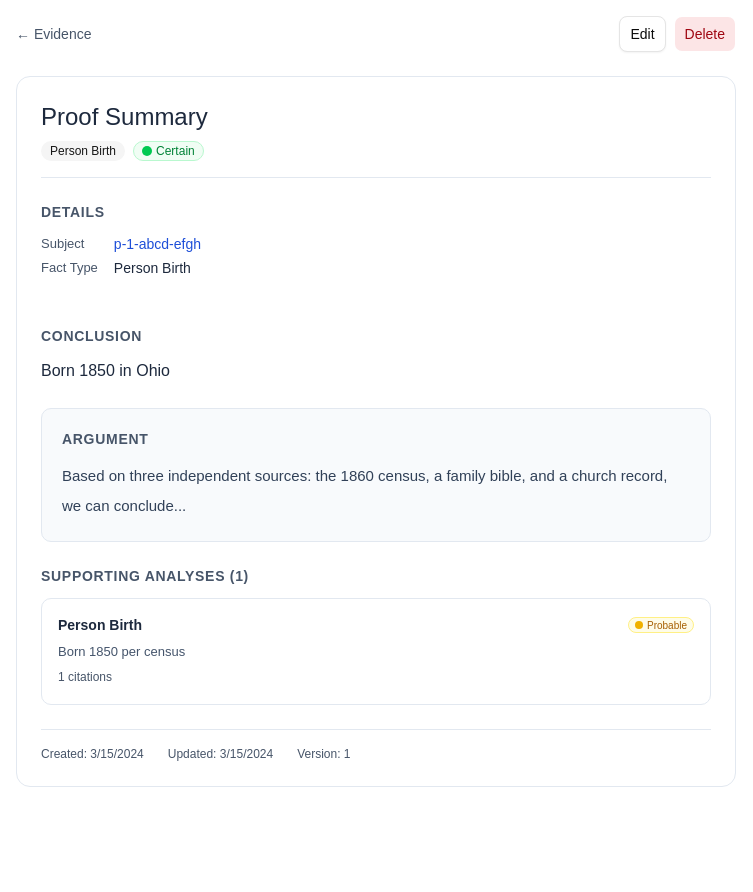
Scenario: Proof Summary Detail Page - save conflict (#939) › compares the edits with the latest version and keeps them in the form
This screenshot has width=753, height=892.
Click the button "Edit": (642, 34) [619,16,666,52]
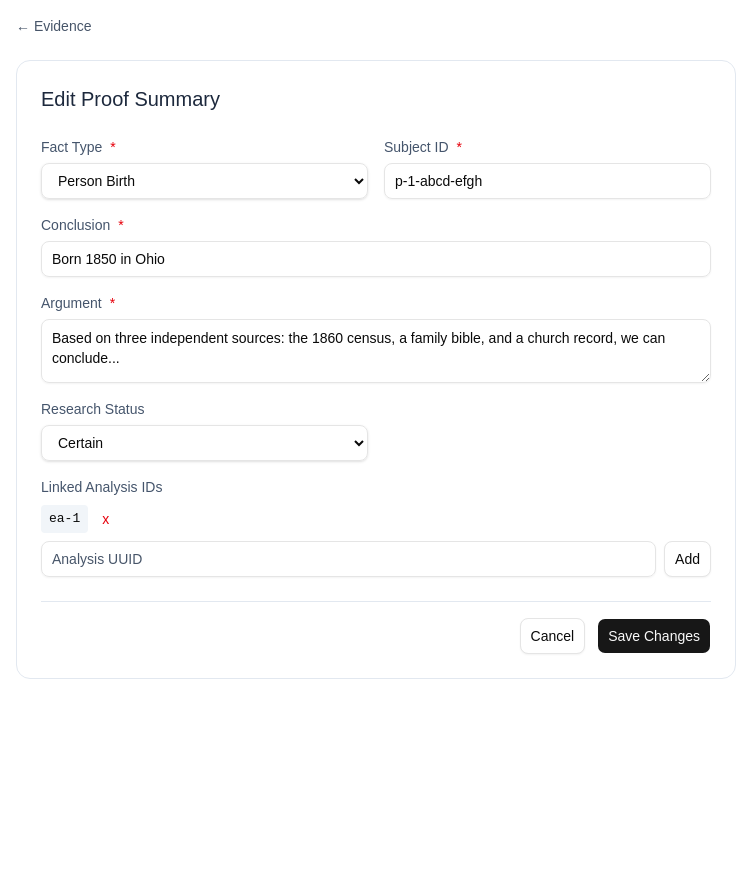
Replace the text in the text box labelled "Argument" with "My argument": (376, 351) [41,319,711,383]
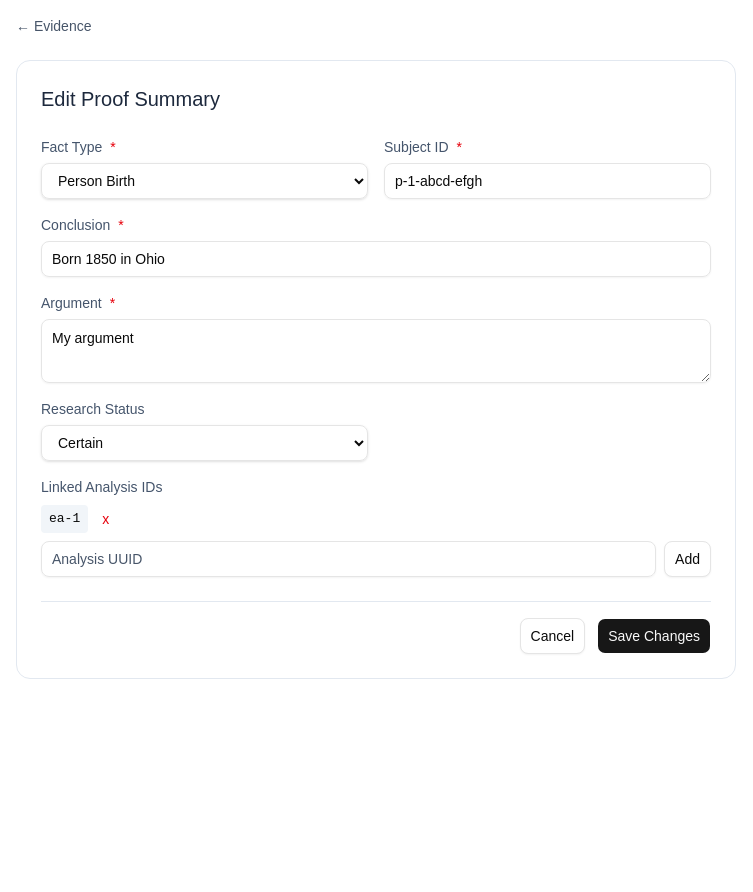
Click the button "Save Changes": (654, 636) [597,618,711,654]
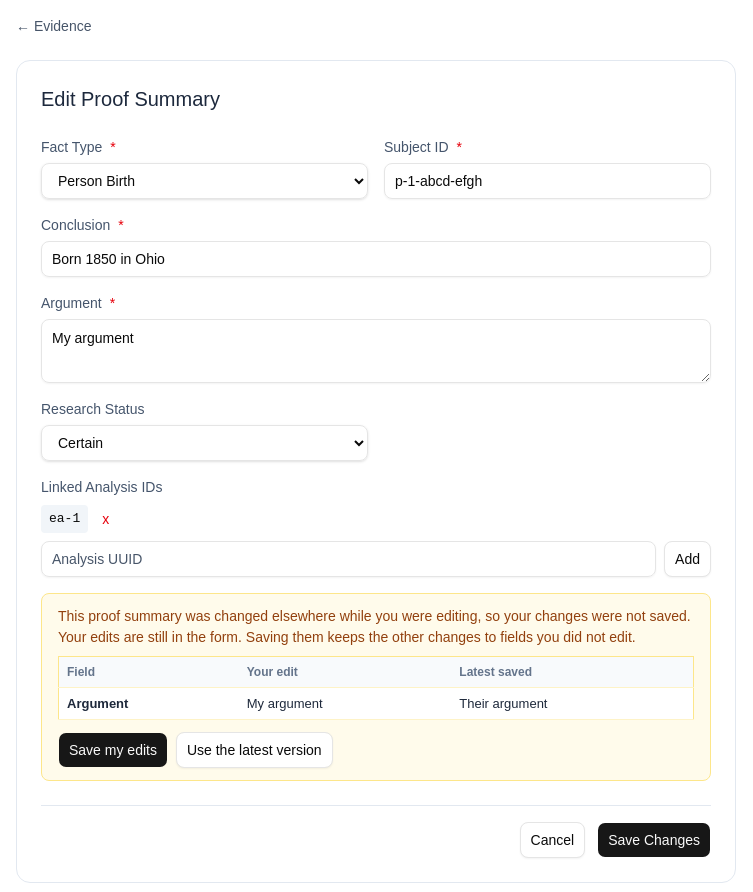
Result: the column heading "Argument" is shown at [58,688,239,720]
Result: the cell with test id "latest" reads "Their argument" at [459,696,548,710]
